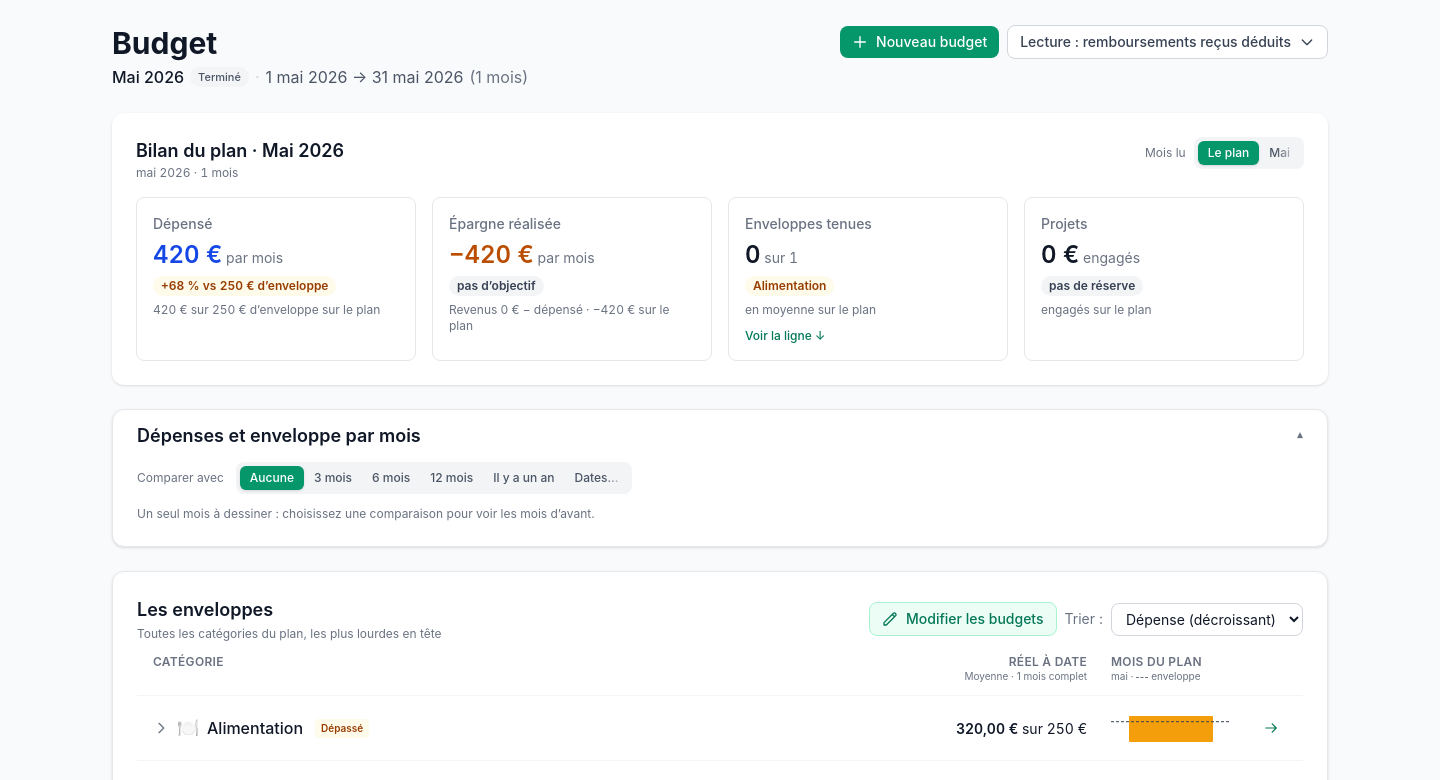
BudgetPage › with a current plan › prefills the budget input from existing entries once editing
Click the button with test id "budget-edit-button" at (963, 619), box [869,602,1056,636]
(page scrolled)
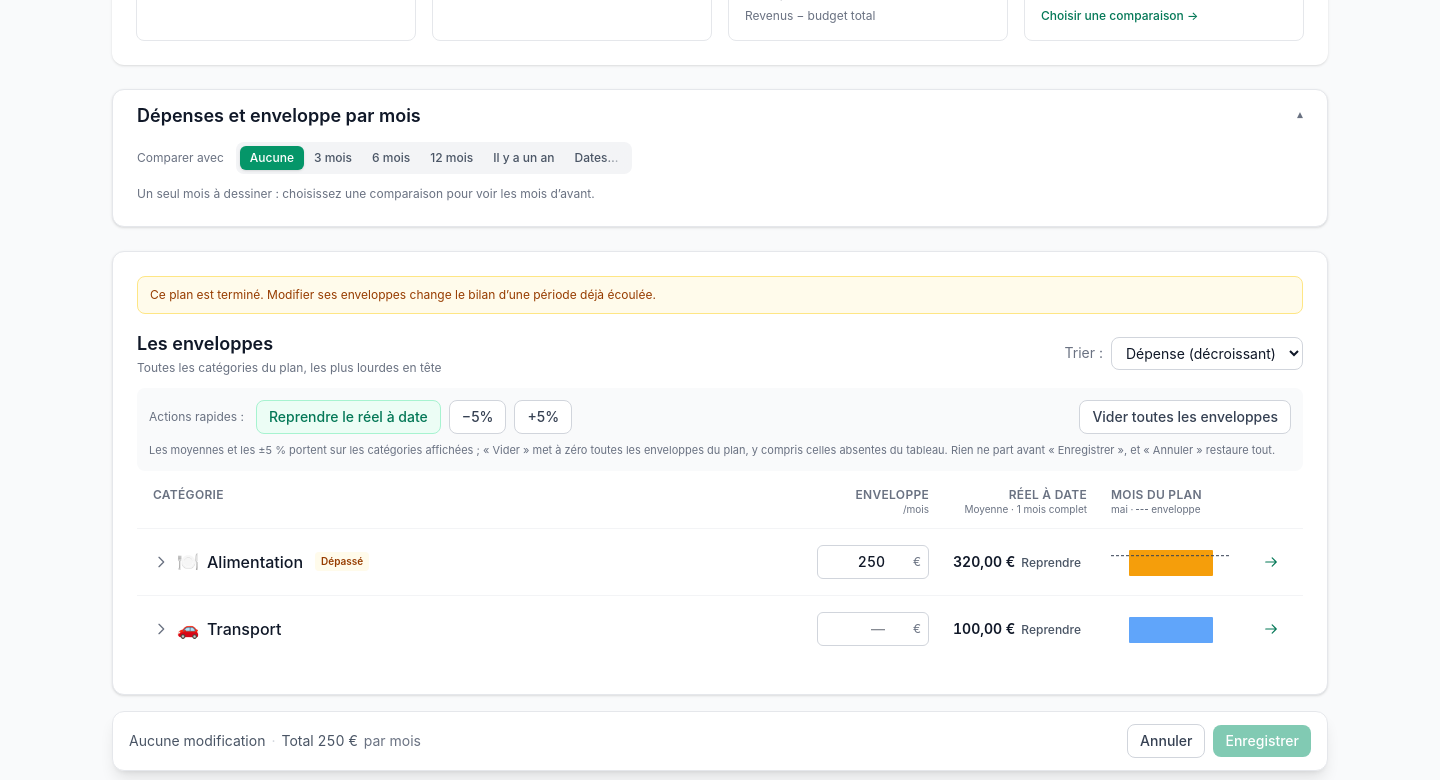
Expected: the number field with test id "budget-input-Alimentation" holds "250", [817,545,929,579]
